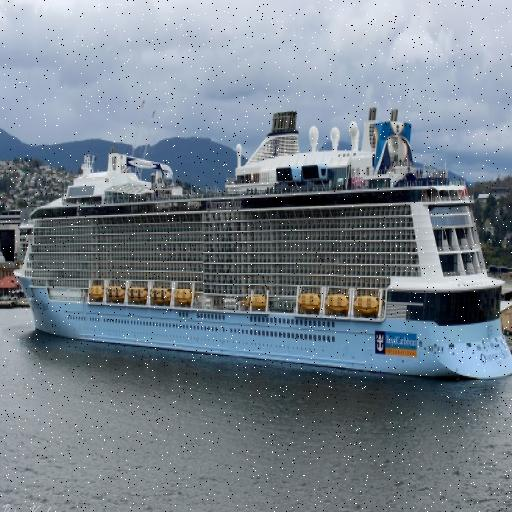cruises: (8, 105, 512, 393)
